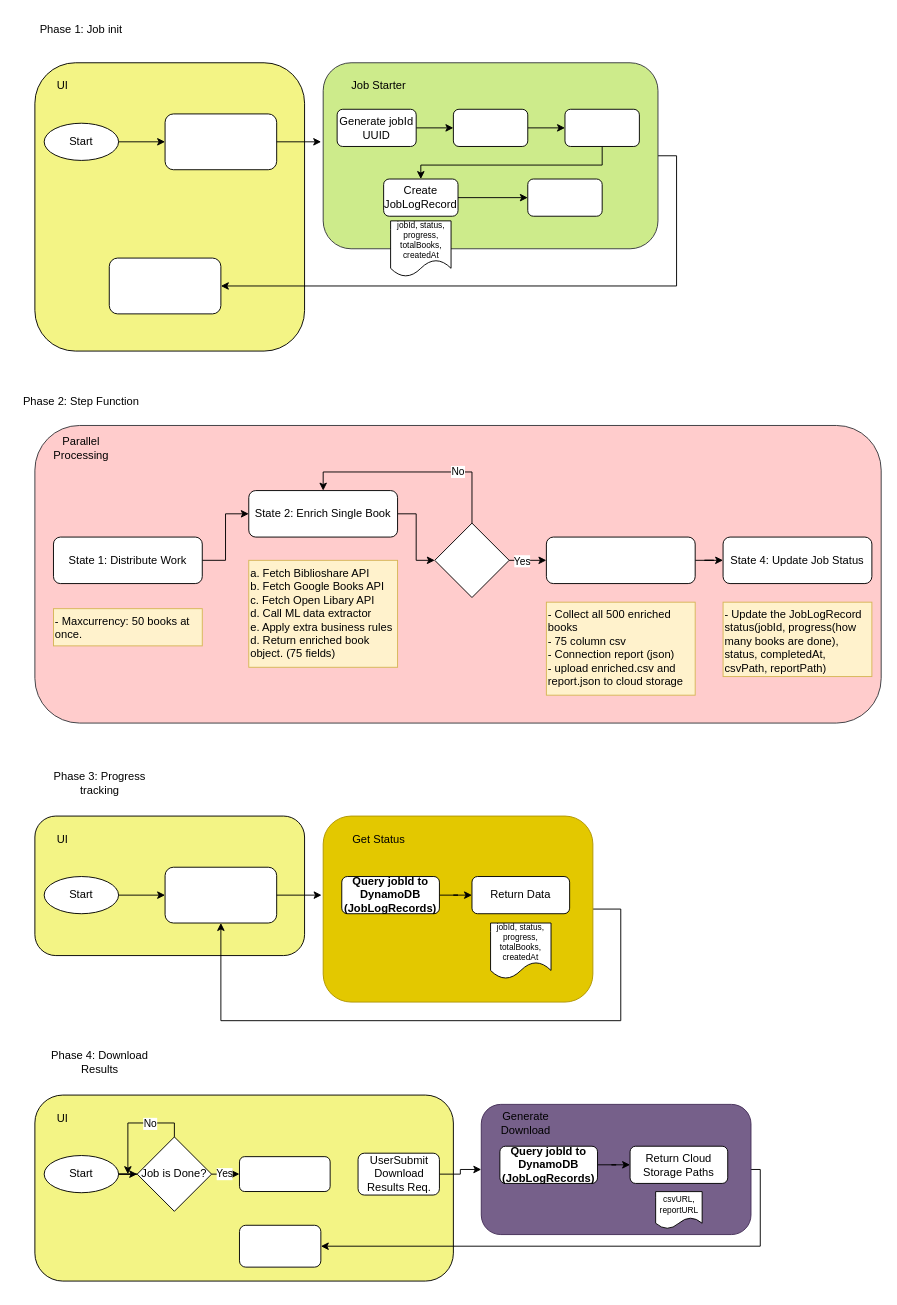
The diagram is 897 pixels wide and 1305 high, and some of its shapes have lost their labels. The box of each missing label's shape, as (x1, y1, x2, y2) in pixels:
All books processed?: (434, 522, 509, 598)
DownloadResults option Activate: (239, 1156, 330, 1192)
Parse CSV (500 ISBN extract): (452, 108, 528, 146)
Show Status of the Job to the User: (108, 257, 221, 314)
Start Step Function: (527, 178, 602, 216)
State 3: Aggregate Results: (545, 536, 695, 584)
Trigger Browser Downloads: (239, 1224, 321, 1267)
Update Status of the Processing (Every 3s): (164, 866, 277, 923)
Upload CSV to Cloud Storage: (564, 108, 639, 146)
User Upload CSV file: (164, 113, 277, 170)
